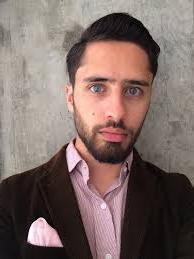face: (74, 42, 153, 162)
